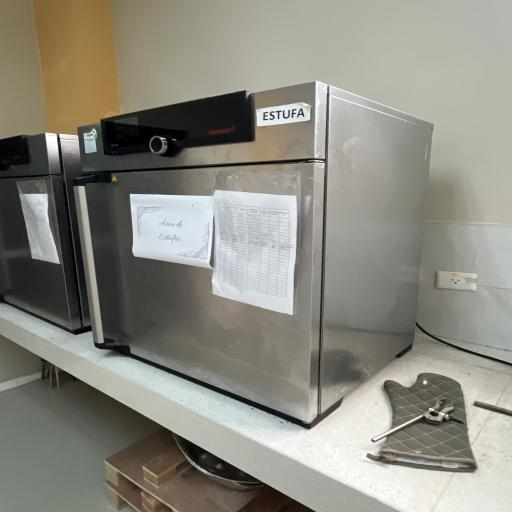Estufa_Memmert: (61, 69, 451, 438)
